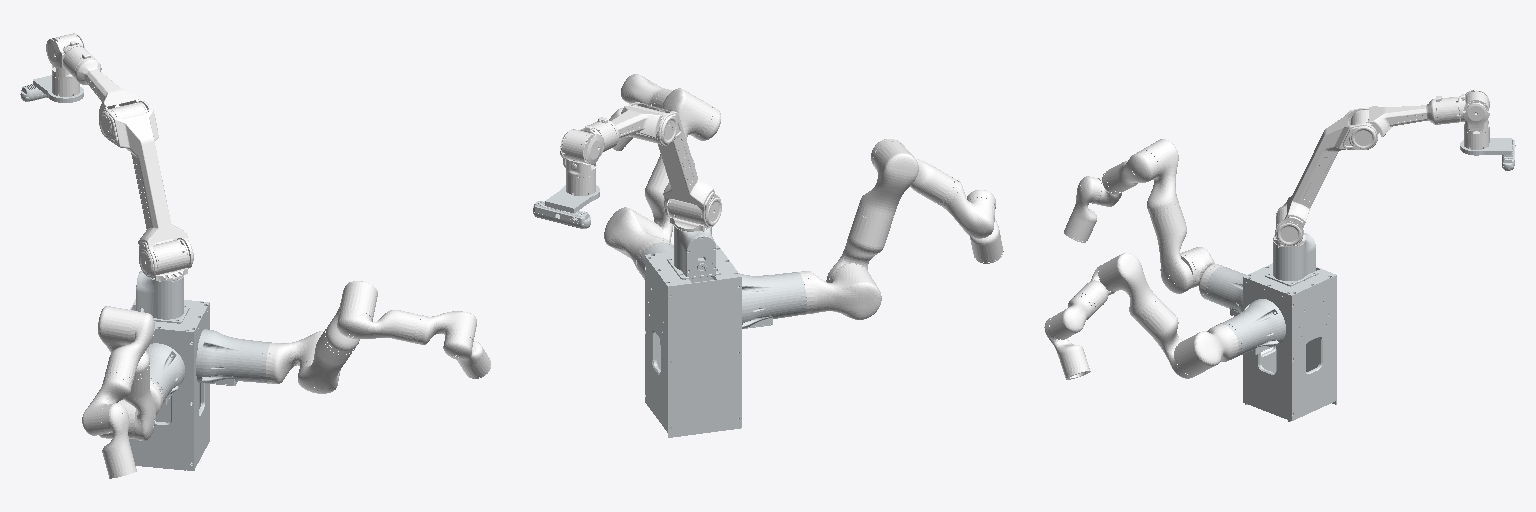
--- Facts derived from the render (not from the file) ---
Views: 3 orthographic renders of the robot side by side, from view 1: azimuth 30°, elevation 25°; view 2: azimuth 150°, elevation 25°; view 3: azimuth 270°, elevation 25°.
Robot: robot_V10 — 21 links, 20 joints (19 revolute, 1 fixed); root link world; default pose: all joints at 0.
Visible links, largest first — view 1: platform_link, Link_S2, Link_A2, Link_B2, Link_S3, Link_A3, Link_B5, Link_A1, Link_B3, Link_B4, Link_A4, Link_A5 (+5 smaller); view 2: platform_link, Link_B2, Link_S2, Link_B1, Link_A2, Link_A1, Link_S3, Link_B4, Link_S6, Link_B3, Link_S4, Link_S5 (+3 smaller); view 3: platform_link, Link_B2, Link_S2, Link_A2, Link_S3, Link_A1, Link_B5, Link_B3, Link_A4, Link_S5, Link_A5, Link_B1 (+2 smaller).
Boxes of the visible links, <box> form: platform_link: <box>129,271,271,470</box>; Link_S2: <box>99,101,193,277</box>; Link_A2: <box>298,281,377,393</box>; Link_B2: <box>98,306,155,440</box>; Link_S3: <box>63,46,147,118</box>; Link_A3: <box>337,310,422,343</box>; Link_B5: <box>102,403,136,478</box>; Link_A1: <box>266,331,340,383</box>; Link_B3: <box>104,312,154,384</box>; Link_B4: <box>82,376,131,435</box>; Link_A4: <box>417,311,476,344</box>; Link_A5: <box>443,337,490,378</box>; platform_link: <box>638,225,806,437</box>; Link_B2: <box>826,141,918,282</box>; Link_S2: <box>626,102,721,227</box>; Link_B1: <box>799,263,881,319</box>; Link_A2: <box>645,88,713,241</box>; Link_A1: <box>604,207,673,272</box>; Link_S3: <box>589,105,666,151</box>; Link_B4: <box>940,179,995,238</box>; Link_S6: <box>533,185,599,228</box>; Link_B3: <box>871,139,955,204</box>; Link_S4: <box>562,125,603,163</box>; Link_S5: <box>560,131,595,195</box>; platform_link: <box>1206,233,1336,421</box>; Link_B2: <box>1139,139,1192,293</box>; Link_S2: <box>1275,108,1377,245</box>; Link_A2: <box>1098,253,1194,378</box>; Link_S3: <box>1350,96,1460,136</box>; Link_A1: <box>1174,324,1238,375</box>; Link_B5: <box>1064,176,1098,242</box>; Link_B3: <box>1106,151,1156,192</box>; Link_A4: <box>1049,295,1093,339</box>; Link_S5: <box>1463,103,1489,149</box>; Link_A5: <box>1044,317,1090,379</box>; Link_B1: <box>1180,247,1223,300</box>.
Size in the robot's own frame: 0.8912 by 1.03 by 0.7548 metres.
17 mesh visuals loaded from 20 distinct referenced files (17 binary STL); not drawn: 3 (reference not matched to a file when rendering).

robot.urdf — robot_V10:
<?xml version="1.0" encoding="utf-8"?>
<!-- This URDF was automatically created by SolidWorks to URDF Exporter! Originally created by Stephen Brawner ([email redacted]) 
     Commit Version: 1.6.0-4-g7f85cfe  Build Version: 1.6.7995.38578
     For more information, please see http://wiki.ros.org/sw_urdf_exporter -->
<robot
  name="robot_V10">
  <!-- 虚拟世界link用于坐标系转换 -->
  <link name="world"/>
  <joint name="world_to_base" type="fixed">
    <parent link="world"/>
    <child link="base_link"/>
    <origin xyz="0 0 0" rpy="3.14159 0 0"/>
  </joint>
  <link
    name="base_link">
    <inertial>
      <origin
        xyz="0.035023 -0.045654 0.26704"
        rpy="0 0 0" />
      <mass
        value="289.28" />
      <inertia
        ixx="9.2366"
        ixy="0.0048895"
        ixz="0.0033066"
        iyy="19.365"
        iyz="0.51362"
        izz="22.329" />
    </inertial>
    <visual>
      <origin
        xyz="0 0 0"
        rpy="0 0 0" />
      <geometry>
        <mesh
          filename="../meshes/base_link.STL" />
      </geometry>
      <material
        name="">
        <color
          rgba="0.79216 0.81961 0.93333 1" />
      </material>
    </visual>
    <collision>
      <origin
        xyz="0 0 0"
        rpy="0 0 0" />
      <geometry>
        <mesh
          filename="../meshes/base_link.STL" />
      </geometry>
    </collision>
  </link>
  <link
    name="platform_link">
    <inertial>
      <origin
        xyz="0.0066954 0.032739 -0.19754"
        rpy="0 0 0" />
      <mass
        value="5.6268" />
      <inertia
        ixx="0.032913"
        ixy="-0.0010198"
        ixz="-7.8232E-06"
        iyy="0.033081"
        iyz="-5.0652E-05"
        izz="0.011116" />
    </inertial>
    <visual>
      <origin
        xyz="0 0 0"
        rpy="0 0 0" />
      <geometry>
        <mesh
          filename="../meshes/platform_link.STL" />
      </geometry>
      <material
        name="">
        <color
          rgba="0.89804 0.91765 0.92941 1" />
      </material>
    </visual>
    <collision>
      <origin
        xyz="0 0 0"
        rpy="0 0 0" />
      <geometry>
        <mesh
          filename="../meshes/platform_link.STL" />
      </geometry>
    </collision>
  </link>
  <joint
    name="joint_platform_D1"
    type="revolute">
    <origin
      xyz="0 0 0"
      rpy="0 0 0" />
    <parent
      link="base_link" />
    <child
      link="platform_link" />
    <axis
      xyz="0 0 -1" />
    <limit
      lower="-3.14"
      upper="3.14"
      effort="100"
      velocity="50" />
  </joint>
  <link
    name="Link_A1">
    <inertial>
      <origin
        xyz="0.0169308367894223 0.0125928013215484 0.0768128774242119"
        rpy="0 0 0" />
      <mass
        value="0.593525762282562" />
      <inertia
        ixx="0.001211740353914"
        ixy="-4.04510751675718E-05"
        ixz="-0.000169403894082202"
        iyy="0.00123597531032555"
        iyz="-0.000126111277061559"
        izz="0.000561310092473764" />
    </inertial>
    <visual>
      <origin
        xyz="0 0 0"
        rpy="0 0 0" />
      <geometry>
        <mesh
          filename="../meshes/Link_A1.STL" />
      </geometry>
      <material
        name="">
        <color
          rgba="1 1 1 1" />
      </material>
    </visual>
    <collision>
      <origin
        xyz="0 0 0"
        rpy="0 0 0" />
      <geometry>
        <mesh
          filename="../meshes/Link_A1.STL" />
      </geometry>
    </collision>
  </link>
  <joint
    name="joint_platform_A1"
    type="revolute">
    <origin
      xyz="0.15647 0.14243 -0.22731"
      rpy="-1.5708 0 -0.82673" />
    <parent
      link="platform_link" />
    <child
      link="Link_A1" />
    <axis
      xyz="0 0 1" />
    <limit
      lower="-3.14"
      upper="3.14"
      effort="100"
      velocity="50" />
  </joint>
  <link
    name="Link_A2">
    <inertial>
      <origin
        xyz="-0.0126344741233757 -0.151722416518289 0.0226638907321563"
        rpy="0 0 0" />
      <mass
        value="0.864181213916929" />
      <inertia
        ixx="0.00204291567607871"
        ixy="-0.000117497024088253"
        ixz="3.49972416744257E-05"
        iyy="0.000642323007807197"
        iyz="0.000420166237031602"
        izz="0.00195279764142988" />
    </inertial>
    <visual>
      <origin
        xyz="0 0 0"
        rpy="0 0 0" />
      <geometry>
        <mesh
          filename="../meshes/Link_A2.STL" />
      </geometry>
      <material
        name="">
        <color
          rgba="1 1 1 1" />
      </material>
    </visual>
    <collision>
      <origin
        xyz="0 0 0"
        rpy="0 0 0" />
      <geometry>
        <mesh
          filename="../meshes/Link_A2.STL" />
      </geometry>
    </collision>
  </link>
  <joint
    name="joint_platform_A2"
    type="revolute">
    <origin
      xyz="-0.0132108472999706 -0.00983204731723247 0.101999999998849"
      rpy="-1.5707963267949 -1.06818707313174 -0.930882582622158" />
    <parent
      link="Link_A1" />
    <child
      link="Link_A2" />
    <axis
      xyz="0 0 1" />
    <limit
      lower="-2.26"
      upper="2.26"
      effort="100"
      velocity="50" />
  </joint>
  <link
    name="Link_A3">
    <inertial>
      <origin
        xyz="-0.117800833591657 -0.0232736791268702 0.0441646444842317"
        rpy="0 0 0" />
      <mass
        value="0.289645631614414" />
      <inertia
        ixx="0.000618421627917276"
        ixy="-2.18347022998156E-05"
        ixz="9.7003656600718E-05"
        iyy="0.000621846882953289"
        iyz="0.000127897601239021"
        izz="0.000167775261531985" />
    </inertial>
    <visual>
      <origin
        xyz="0 0 0"
        rpy="0 0 0" />
      <geometry>
        <mesh
          filename="../meshes/Link_A3.STL" />
      </geometry>
      <material
        name="">
        <color
          rgba="1 1 1 1" />
      </material>
    </visual>
    <collision>
      <origin
        xyz="0 0 0"
        rpy="0 0 0" />
      <geometry>
        <mesh
          filename="../meshes/Link_A3.STL" />
      </geometry>
    </collision>
  </link>
  <joint
    name="joint_platform_A3"
    type="revolute">
    <origin
      xyz="-0.012678652632737 -0.151961786830407 0.0164610793638682"
      rpy="1.00030254860532 -0.123402688706427 1.56650766817711" />
    <parent
      link="Link_A2" />
    <child
      link="Link_A3" />
    <axis
      xyz="0.123089726472094 0.835234243611025 0.535940927282611" />
    <limit
      lower="-2.26"
      upper="2.26"
      effort="100"
      velocity="50" />
  </joint>
  <link
    name="Link_A4">
    <inertial>
      <origin
        xyz="0.016896007871893 -0.00633304037762816 -0.05996151419747"
        rpy="0 0 0" />
      <mass
        value="0.239433776027785" />
      <inertia
        ixx="0.000265607043125794"
        ixy="7.64305481199854E-06"
        ixz="4.14131935380001E-05"
        iyy="0.000283077940585531"
        iyz="-1.55624791539585E-05"
        izz="0.000119899346983553" />
    </inertial>
    <visual>
      <origin
        xyz="0 0 0"
        rpy="0 0 0" />
      <geometry>
        <mesh
          filename="../meshes/Link_A4.STL" />
      </geometry>
      <material
        name="">
        <color
          rgba="1 1 1 1" />
      </material>
    </visual>
    <collision>
      <origin
        xyz="0 0 0"
        rpy="0 0 0" />
      <geometry>
        <mesh
          filename="../meshes/Link_A4.STL" />
      </geometry>
    </collision>
  </link>
  <joint
    name="joint_platform_A4"
    type="revolute">
    <origin
      xyz="-0.132857488365902 -0.0488711328328308 0.107236171903331"
      rpy="-3.06893016634827 -0.582064137953246 0.995874517388692" />
    <parent
      link="Link_A3" />
    <child
      link="Link_A4" />
    <axis
      xyz="0 0 -1" />
    <limit
      lower="-3.14"
      upper="3.14"
      effort="100"
      velocity="50" />
  </joint>
  <link
    name="Link_A5">
    <inertial>
      <origin
        xyz="0.0380094230376776 0.0456440434886026 0.00506810747745645"
        rpy="0 0 0" />
      <mass
        value="0.218793807603732" />
      <inertia
        ixx="0.000249967614137682"
        ixy="-0.000120769356677445"
        ixz="-5.00570691133891E-05"
        iyy="0.000205481998419059"
        iyz="-6.01294670291514E-05"
        izz="0.000334465752993695" />
    </inertial>
    <visual>
      <origin
        xyz="0 0 0"
        rpy="0 0 0" />
      <geometry>
        <mesh
          filename="../meshes/Link_A5.STL" />
      </geometry>
      <material
        name="">
        <color
          rgba="1 1 1 1" />
      </material>
    </visual>
    <collision>
      <origin
        xyz="0 0 0"
        rpy="0 0 0" />
      <geometry>
        <mesh
          filename="../meshes/Link_A5.STL" />
      </geometry>
    </collision>
  </link>
  <joint
    name="joint_platform_A5"
    type="revolute">
    <origin
      xyz="-0.0113606247812901 0.0042683371510126 -0.0814999999999998"
      rpy="1.5707963267949 1.32513220794321 1.21130110529" />
    <parent
      link="Link_A4" />
    <child
      link="Link_A5" />
    <axis
      xyz="0 0 1" />
    <limit
      lower="-2.2"
      upper="2.2"
      effort="100"
      velocity="50" />
  </joint>
  <link
    name="Link_A6">
    <inertial>
      <origin
        xyz="0.00606884565213639 0.0152502416830383 0.109538960794972"
        rpy="0 0 0" />
      <mass
        value="0.652237451823604" />
      <inertia
        ixx="0.000301203372093203"
        ixy="-4.46063215910981E-05"
        ixz="-4.21673354066232E-09"
        iyy="0.000220903467434786"
        iyz="-3.3358058851477E-08"
        izz="0.000367350798134239" />
    </inertial>
    <visual>
      <origin
        xyz="0 0 0"
        rpy="0 0 0" />
      <geometry>
        <mesh
          filename="../meshes/Link_A6.STL" />
      </geometry>
      <material
        name="">
        <color
          rgba="1 1 1 1" />
      </material>
    </visual>
    <collision>
      <origin
        xyz="0 0 0"
        rpy="0 0 0" />
      <geometry>
        <mesh
          filename="../meshes/Link_A6.STL" />
      </geometry>
    </collision>
  </link>
  <joint
    name="joint_platform_A6"
    type="revolute">
    <origin
      xyz="0.0736102642149934 0.0883749191141996 0.0124357145512975"
      rpy="-1.57079646161027 -0.699913541621339 -0.694444981452453" />
    <parent
      link="Link_A5" />
    <child
      link="Link_A6" />
    <axis
      xyz="0 0 0.999999999999972" />
    <limit
      lower="-6.2"
      upper="6.2"
      effort="100"
      velocity="50" />
  </joint>
  <link
    name="Link_B1">
    <inertial>
      <origin
        xyz="-0.0210307676752361 -0.00180296761393567 0.0768121489222187"
        rpy="0 0 0" />
      <mass
        value="0.593520652882471" />
      <inertia
        ixx="0.0011822089514045"
        ixy="-7.13362620080486E-06"
        ixz="0.00021041828482838"
        iyy="0.00126545347768904"
        iyz="1.79134043694063E-05"
        izz="0.000561301130529158" />
    </inertial>
    <visual>
      <origin
        xyz="0 0 0"
        rpy="0 0 0" />
      <geometry>
        <mesh
          filename="../meshes/Link_B1.STL" />
      </geometry>
      <material
        name="">
        <color
          rgba="1 1 1 1" />
      </material>
    </visual>
    <collision>
      <origin
        xyz="0 0 0"
        rpy="0 0 0" />
      <geometry>
        <mesh
          filename="../meshes/Link_B1.STL" />
      </geometry>
    </collision>
  </link>
  <joint
    name="joint_platform_B1"
    type="revolute">
    <origin
      xyz="-0.142473632839857 0.155636147433961 -0.227311716711636"
      rpy="-1.57079632679501 0 0.744063112694143" />
    <parent
      link="platform_link" />
    <child
      link="Link_B1" />
    <axis
      xyz="0 0 1" />
    <limit
      lower="-3.1"
      upper="3.1"
      effort="100"
      velocity="50" />
  </joint>
  <link
    name="Link_B2">
    <inertial>
      <origin
        xyz="-0.153292355655283 0.143345908217216 -0.00620379121866188"
        rpy="0 0 0" />
      <mass
        value="0.864180134866302" />
      <inertia
        ixx="0.0018915534289376"
        ixy="0.000450453898027771"
        ixz="-0.000142032194786381"
        iyy="0.000793701521401255"
        iyz="0.000396980873495538"
        izz="0.00195281225823474" />
    </inertial>
    <visual>
      <origin
        xyz="0 0 0"
        rpy="0 0 0" />
      <geometry>
        <mesh
          filename="../meshes/Link_B2.STL" />
      </geometry>
      <material
        name="">
        <color
          rgba="1 1 1 1" />
      </material>
    </visual>
    <collision>
      <origin
        xyz="0 0 0"
        rpy="0 0 0" />
      <geometry>
        <mesh
          filename="../meshes/Link_B2.STL" />
      </geometry>
    </collision>
  </link>
  <joint
    name="joint_platform_B2"
    type="revolute">
    <origin
      xyz="0 0 0"
      rpy="0.0849621690785075 1.5707963267949 0" />
    <parent
      link="Link_B1" />
    <child
      link="Link_B2" />
    <axis
      xyz="0 0 1" />
    <limit
      lower="-2.26"
      upper="2.26"
      effort="100"
      velocity="50" />
  </joint>
  <link
    name="Link_B3">
    <inertial>
      <origin
        xyz="-0.0445835523125042 0.0396010749080349 0.00266699880015819"
        rpy="0 0 0" />
      <mass
        value="0.289639370831344" />
      <inertia
        ixx="0.00036853856501621"
        ixy="0.000238752155491364"
        ixz="0.000108127866568749"
        iyy="0.000425300259027599"
        iyz="-9.60150408361627E-05"
        izz="0.000614165810618468" />
    </inertial>
    <visual>
      <origin
        xyz="0 0 0"
        rpy="0 0 0" />
      <geometry>
        <mesh
          filename="../meshes/Link_B3.STL" />
      </geometry>
      <material
        name="">
        <color
          rgba="1 1 1 1" />
      </material>
    </visual>
    <collision>
      <origin
        xyz="0 0 0"
        rpy="0 0 0" />
      <geometry>
        <mesh
          filename="../meshes/Link_B3.STL" />
      </geometry>
    </collision>
  </link>
  <joint
    name="joint_platform_B3"
    type="revolute">
    <origin
      xyz="-0.188203747003209 0.241040337344676 0.0129348807356726"
      rpy="3.14159265358979 0 -0.0919224225404343" />
    <parent
      link="Link_B2" />
    <child
      link="Link_B3" />
    <axis
      xyz="0 0 1" />
    <limit
      lower="-2.26"
      upper="2.26"
      effort="100"
      velocity="50" />
  </joint>
  <link
    name="Link_B4">
    <inertial>
      <origin
        xyz="-0.00734522628431628 0.0164811077834319 -0.0599618100191497"
        rpy="0 0 0" />
      <mass
        value="0.239430613748721" />
      <inertia
        ixx="0.000282116070585354"
        ixy="8.61912204153082E-06"
        ixz="-1.79748328384806E-05"
        iyy="0.00026656883823886"
        iyz="4.04244209097807E-05"
        izz="0.000119899572352226" />
    </inertial>
    <visual>
      <origin
        xyz="0 0 0"
        rpy="0 0 0" />
      <geometry>
        <mesh
          filename="../meshes/Link_B4.STL" />
      </geometry>
      <material
        name="">
        <color
          rgba="1 1 1 1" />
      </material>
    </visual>
    <collision>
      <origin
        xyz="0 0 0"
        rpy="0 0 0" />
      <geometry>
        <mesh
          filename="../meshes/Link_B4.STL" />
      </geometry>
    </collision>
  </link>
  <joint
    name="joint_platform_B4"
    type="revolute">
    <origin
      xyz="-0.0960920462857941 0.0853717682345888 0.013226827485807"
      rpy="1.57079632679491 1.01854263840748 0.844439767031704" />
    <parent
      link="Link_B3" />
    <child
      link="Link_B4" />
    <axis
      xyz="0 0 1" />
    <limit
      lower="-3.14"
      upper="3.14"
      effort="100"
      velocity="50" />
  </joint>
  <link
    name="Link_B5">
    <inertial>
      <origin
        xyz="0.011393611132646 0.0581872049826706 0.00506814258546151"
        rpy="0 0 0" />
      <mass
        value="0.218793290035851" />
      <inertia
        ixx="0.000341452617618079"
        ixy="-4.63203639628417E-05"
        ixz="-1.50283512281207E-05"
        iyy="0.000113994705208513"
        iyz="-7.67811787013923E-05"
        izz="0.000334463186991967" />
    </inertial>
    <visual>
      <origin
        xyz="0 0 0"
        rpy="0 0 0" />
      <geometry>
        <mesh
          filename="../meshes/Link_B5.STL" />
      </geometry>
      <material
        name="">
        <color
          rgba="1 1 1 1" />
      </material>
    </visual>
    <collision>
      <origin
        xyz="0 0 0"
        rpy="0 0 0" />
      <geometry>
        <mesh
          filename="../meshes/Link_B5.STL" />
      </geometry>
    </collision>
  </link>
  <joint
    name="joint_platform_B5"
    type="revolute">
    <origin
      xyz="0.00498093355069423 -0.0110668807595307 -0.0815561902327434"
      rpy="-1.5707963267949 -0.573741362025699 0.418364132516817" />
    <parent
      link="Link_B4" />
    <child
      link="Link_B5" />
    <axis
      xyz="0 0 1" />
    <limit
      lower="-2.2"
      upper="2.2"
      effort="100"
      velocity="50" />
  </joint>
  <link
    name="Link_B6">
    <inertial>
      <origin
        xyz="-0.00256296562750091 0.0162138395278226 0.10953897454242"
        rpy="0 0 0" />
      <mass
        value="0.652237455496744" />
      <inertia
        ixx="0.000319425998252991"
        ixy="1.39426400580414E-05"
        ixz="1.33570230674588E-08"
        iyy="0.000202680996434978"
        iyz="-3.08175467257502E-08"
        izz="0.000367350905559284" />
    </inertial>
    <visual>
      <origin
        xyz="0 0 0"
        rpy="0 0 0" />
      <geometry>
        <mesh
          filename="../meshes/Link_B6.STL" />
      </geometry>
      <material
        name="">
        <color
          rgba="1 1 1 1" />
      </material>
    </visual>
    <collision>
      <origin
        xyz="0 0 0"
        rpy="0 0 0" />
      <geometry>
        <mesh
          filename="../meshes/Link_B6.STL" />
      </geometry>
    </collision>
  </link>
  <joint
    name="joint_platform_B6"
    type="revolute">
    <origin
      xyz="0.0220769553081411 0.112769294031951 0.0124298510263973"
      rpy="-1.5707963267949 0.363602003221376 -0.193504212101692" />
    <parent
      link="Link_B5" />
    <child
      link="Link_B6" />
    <axis
      xyz="0 0 1" />
    <limit
      lower="-6.2"
      upper="6.2"
      effort="100"
      velocity="50" />
  </joint>
  <link
    name="Link_S1">
    <inertial>
      <origin
        xyz="-0.00111431623367673 -0.000394920204415852 -0.0279765574769409"
        rpy="0 0 0" />
      <mass
        value="0.106878620604356" />
      <inertia
        ixx="7.78786903515349E-05"
        ixy="-1.60681975184557E-08"
        ixz="2.61075287396989E-06"
        iyy="9.22279471336507E-05"
        iyz="2.93084723436216E-07"
        izz="8.34708373040095E-05" />
    </inertial>
    <visual>
      <origin
        xyz="0 0 0"
        rpy="0 0 0" />
      <geometry>
        <mesh
          filename="../meshes/Link_S1.STL" />
      </geometry>
      <material
        name="">
        <color
          rgba="1 1 1 1" />
      </material>
    </visual>
    <collision>
      <origin
        xyz="0 0 0"
        rpy="0 0 0" />
      <geometry>
        <mesh
          filename="../meshes/Link_S1.STL" />
      </geometry>
    </collision>
  </link>
  <joint
    name="joint_platform_S1"
    type="revolute">
    <origin
      xyz="0.000433041860730524 0.000398644471470921 -0.39995"
      rpy="0 0 0" />
    <parent
      link="platform_link" />
    <child
      link="Link_S1" />
    <axis
      xyz="0 0 1" />
    <limit
      lower="-2.68"
      upper="2.68"
      effort="100"
      velocity="50" />
  </joint>
  <link
    name="Link_S2">
    <inertial>
      <origin
        xyz="0.0724194778767879 -0.131936188075807 0.044406043154082"
        rpy="0 0 0" />
      <mass
        value="0.203920919386394" />
      <inertia
        ixx="0.00128889812936827"
        ixy="0.00066263638005062"
        ixz="-7.91150391912717E-06"
        iyy="0.000642111780427921"
        iyz="3.83146896595018E-07"
        izz="0.00162755121218312" />
    </inertial>
    <visual>
      <origin
        xyz="0 0 0"
        rpy="0 0 0" />
      <geometry>
        <mesh
          filename="../meshes/Link_S2.STL" />
      </geometry>
      <material
        name="">
        <color
          rgba="1 1 1 1" />
      </material>
    </visual>
    <collision>
      <origin
        xyz="0 0 0"
        rpy="0 0 0" />
      <geometry>
        <mesh
          filename="../meshes/Link_S2.STL" />
      </geometry>
    </collision>
  </link>
  <joint
    name="joint_platform_S2"
    type="revolute">
    <origin
      xyz="0.0367444027969984 0.00064137593620528 -0.0370499999999101"
      rpy="1.5707963267949 0 -1.5533430342851" />
    <parent
      link="Link_S1" />
    <child
      link="Link_S2" />
    <axis
      xyz="0 0 1" />
    <limit
      lower="0"
      upper="3.3"
      effort="100"
      velocity="50" />
  </joint>
  <link
    name="Link_S3">
    <inertial>
      <origin
        xyz="0.100943213162187 -0.0283683578342204 0.0476334565574921"
        rpy="0 0 0" />
      <mass
        value="0.259290582671513" />
      <inertia
        ixx="9.87188428452086E-05"
        ixy="1.87582848560715E-05"
        ixz="-9.74231758607965E-07"
        iyy="0.00018114878198025"
        iyz="6.25962927670277E-07"
        izz="0.000209231319367455" />
    </inertial>
    <visual>
      <origin
        xyz="0 0 0"
        rpy="0 0 0" />
      <geometry>
        <mesh
          filename="../meshes/Link_S3.STL" />
      </geometry>
      <material
        name="">
        <color
          rgba="1 1 1 1" />
      </material>
    </visual>
    <collision>
      <origin
        xyz="0 0 0"
        rpy="0 0 0" />
      <geometry>
        <mesh
          filename="../meshes/Link_S3.STL" />
      </geometry>
    </collision>
  </link>
  <joint
    name="joint_platform_S3"
    type="revolute">
    <origin
      xyz="0.162822697705282 -0.233968487158141 -0.0104499999999984"
      rpy="0 0 0" />
    <parent
      link="Link_S2" />
    <child
      link="Link_S3" />
    <axis
      xyz="0 0 1" />
    <limit
      lower="0"
      upper="3.14"
      effort="100"
      velocity="50" />
  </joint>
  <link
    name="Link_S4">
    <inertial>
      <origin
        xyz="0.00107591847887858 -0.000204149584096758 0.0322093232186499"
        rpy="0 0 0" />
      <mass
        value="0.120706963487323" />
      <inertia
        ixx="4.5901673414908E-05"
        ixy="2.29837753182355E-08"
        ixz="6.83876857454174E-08"
        iyy="3.66186703730379E-05"
        iyz="-4.6682057318395E-08"
        izz="3.90050010786891E-05" />
    </inertial>
    <visual>
      <origin
        xyz="0 0 0"
        rpy="0 0 0" />
      <geometry>
        <mesh
          filename="../meshes/Link_S4.STL" />
      </geometry>
      <material
        name="">
        <color
          rgba="1 1 1 1" />
      </material>
    </visual>
    <collision>
      <origin
        xyz="0 0 0"
        rpy="0 0 0" />
      <geometry>
        <mesh
          filename="../meshes/Link_S4.STL" />
      </geometry>
    </collision>
  </link>
  <joint
    name="joint_platform_S4"
    type="revolute">
    <origin
      xyz="0.210129289624401 -0.0494636890451812 0.047199999999998"
      rpy="1.57079632679571 1.56854804510877 1.44163329792559" />
    <parent
      link="Link_S3" />
    <child
      link="Link_S4" />
    <axis
      xyz="0 0 -1" />
    <limit
      lower="-1.55"
      upper="1.55"
      effort="100"
      velocity="50" />
  </joint>
  <link
    name="Link_S5">
    <inertial>
      <origin
        xyz="3.8721804861086E-05 -0.0573117732132232 -0.0211795210257932"
        rpy="0 0 0" />
      <mass
        value="0.136460063146015" />
      <inertia
        ixx="0.000120531193470609"
        ixy="-2.72999966574502E-07"
        ixz="4.65203886805748E-08"
        iyy="6.56087192754961E-05"
        iyz="-2.43327385970916E-05"
        izz="0.000114403333603092" />
    </inertial>
    <visual>
      <origin
        xyz="0 0 0"
        rpy="0 0 0" />
      <geometry>
        <mesh
          filename="../meshes/Link_S5.STL" />
      </geometry>
      <material
        name="">
        <color
          rgba="1 1 1 1" />
      </material>
    </visual>
    <collision>
      <origin
        xyz="0 0 0"
        rpy="0 0 0" />
      <geometry>
        <mesh
          filename="../meshes/Link_S5.STL" />
      </geometry>
    </collision>
  </link>
  <joint
    name="joint_platform_S5"
    type="revolute">
    <origin
      xyz="0.0239199395449672 -5.37788526262517E-05 0.0369999999999999"
      rpy="1.57079632679489 -1.4416332979245 1.56854804510879" />
    <parent
      link="Link_S4" />
    <child
      link="Link_S5" />
    <axis
      xyz="0 0 -1" />
    <limit
      lower="-1.55"
      upper="1.55"
      effort="100"
      velocity="50" />
  </joint>
  <link
    name="Link_S6">
    <inertial>
      <origin
        xyz="0.000874537945095726 -0.0417696009857867 0.0121227762064126"
        rpy="0 0 0" />
      <mass
        value="0.31912322735761" />
      <inertia
        ixx="0.000210288101824317"
        ixy="5.1558478536918E-09"
        ixz="6.73512736582423E-07"
        iyy="0.000226598974933412"
        iyz="-2.8061125364473E-07"
        izz="0.000419233743641026" />
    </inertial>
    <visual>
      <origin
        xyz="0 0 0"
        rpy="0 0 0" />
      <geometry>
        <mesh
          filename="../meshes/Link_S6.STL" />
      </geometry>
      <material
        name="">
        <color
          rgba="0.898039215686275 0.917647058823529 0.929411764705882 1" />
      </material>
    </visual>
    <collision>
      <origin
        xyz="0 0 0"
        rpy="0 0 0" />
      <geometry>
        <mesh
          filename="../meshes/Link_S6.STL" />
      </geometry>
    </collision>
  </link>
  <joint
    name="joint_platform_S6"
    type="revolute">
    <origin
      xyz="0 -0.0909999999999964 -0.0249165214861997"
      rpy="1.57079632679511 -1.55334303428509 0" />
    <parent
      link="Link_S5" />
    <child
      link="Link_S6" />
    <axis
      xyz="0 0 -1" />
    <limit
      lower="-3"
      upper="3"
      effort="100"
      velocity="50" />
  </joint>
</robot>
